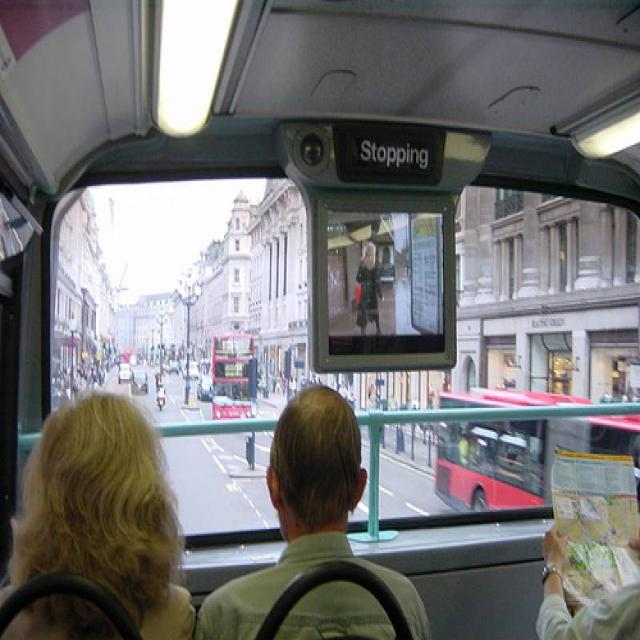motor: (156, 387, 165, 410)
